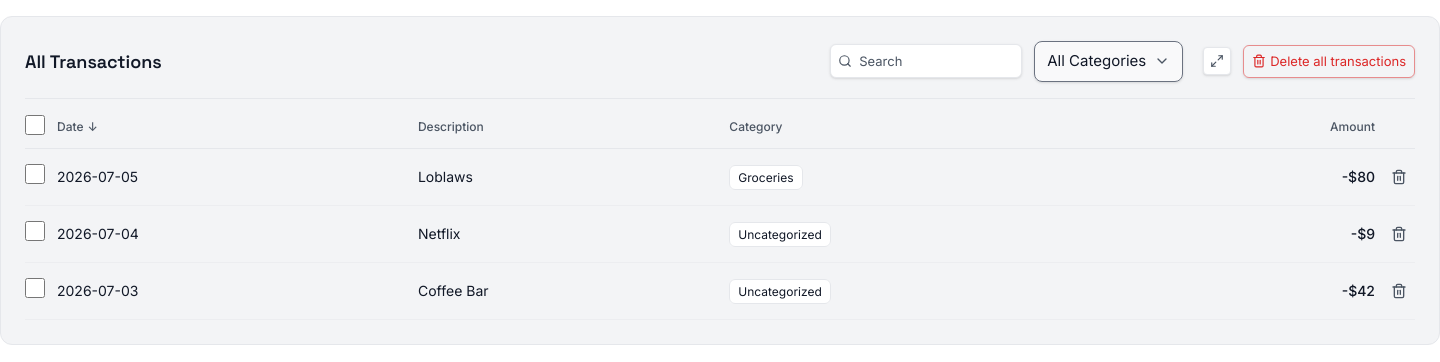
Test: TransactionListWidget search › filters by description, case insensitively
Type "netfl" into the search field named "Search transactions" at (926, 61), box [830,44,1022,78]
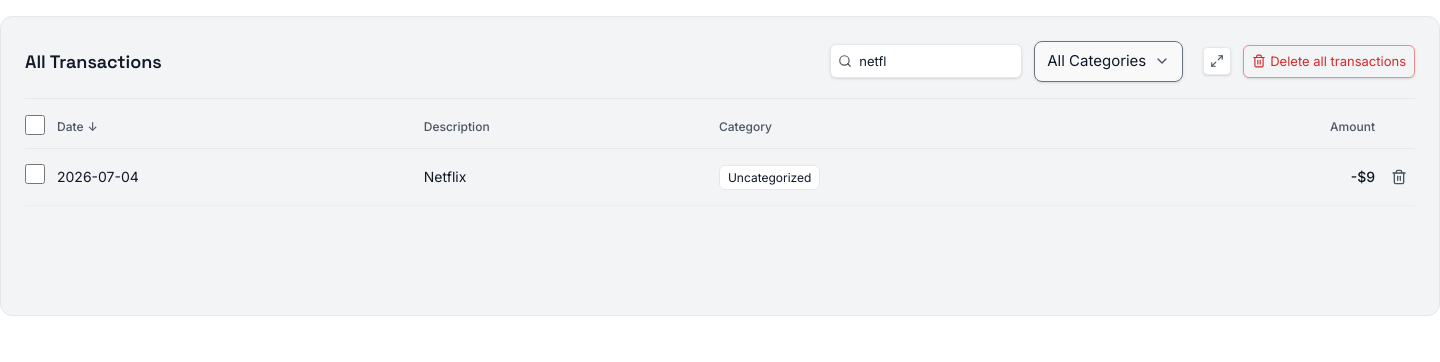
Expected: the button "Netflix" is shown, [424,166,466,187]
Now the button "Coffee Bar" is gone
